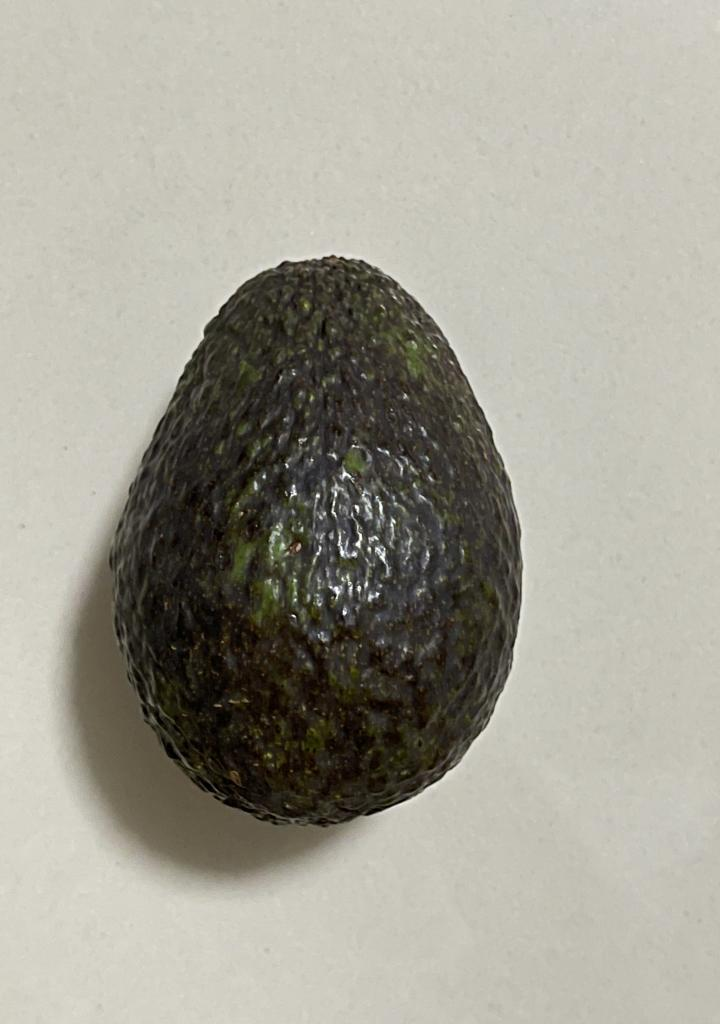Level1: (98, 231, 538, 836)
